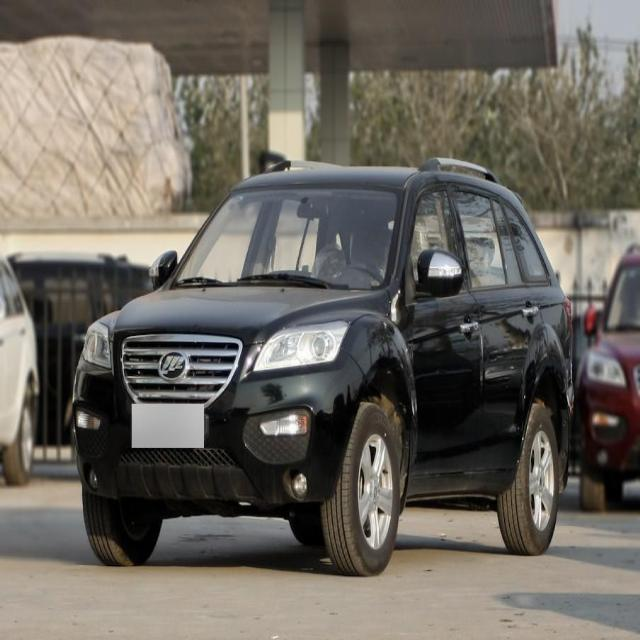back_left_side_light: (561, 295, 573, 335)
door: (469, 184, 540, 479)
front_bumper: (69, 348, 371, 509)
front_glass: (171, 184, 405, 292)
front_left_side_door: (406, 175, 485, 482)
front_left_side_light: (250, 317, 351, 375)
front_left_side_mirror: (407, 249, 465, 300)
front_right_side_light: (80, 319, 113, 372)
front_right_side_mirror: (148, 248, 178, 290)
wheel: (320, 401, 401, 572), (495, 398, 560, 552), (80, 479, 162, 564)
